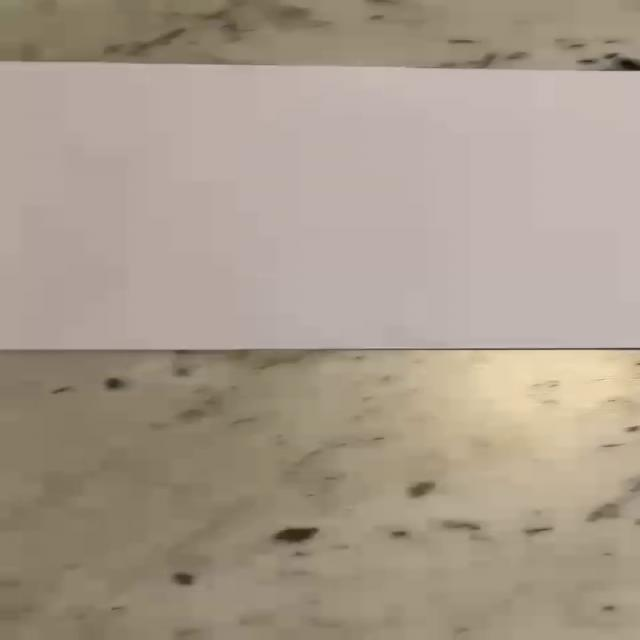road: (1, 63, 640, 350)
